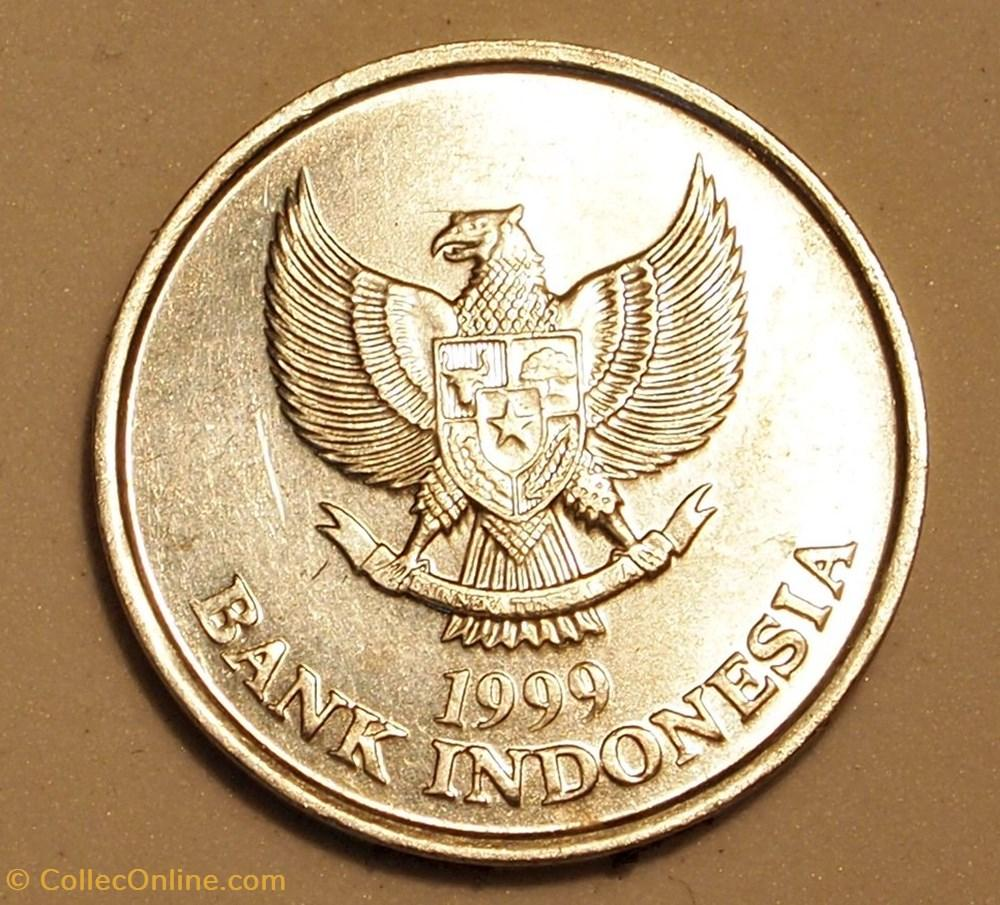coin_100_e1999: (83, 39, 933, 895)
